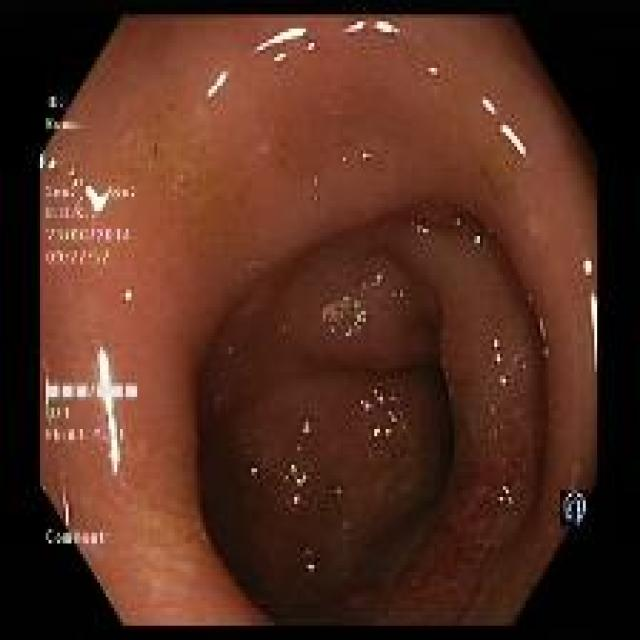ulcerative-colitis: (329, 213, 565, 623)
